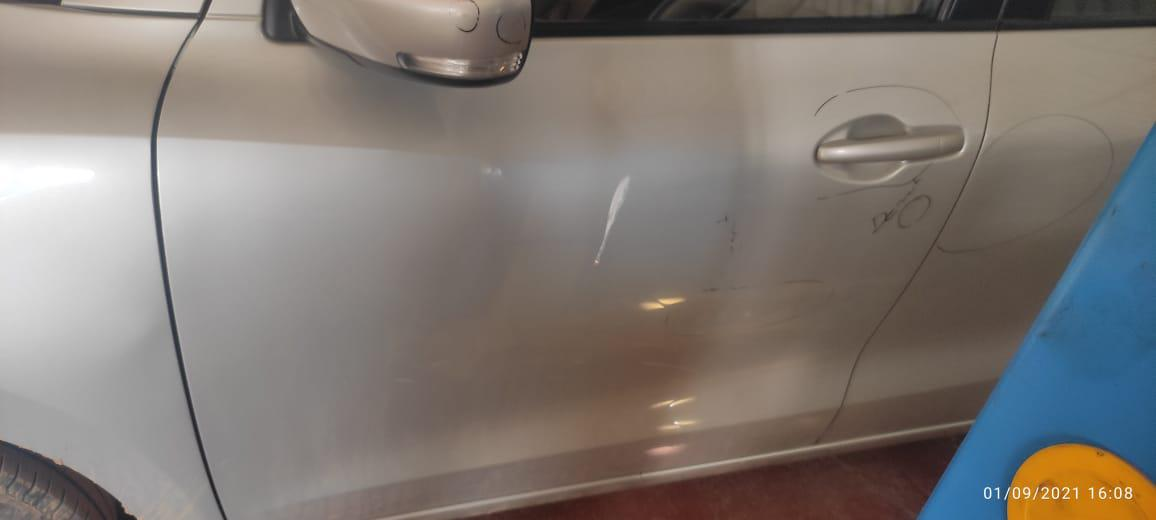doorouter-dent: (265, 39, 852, 476)
